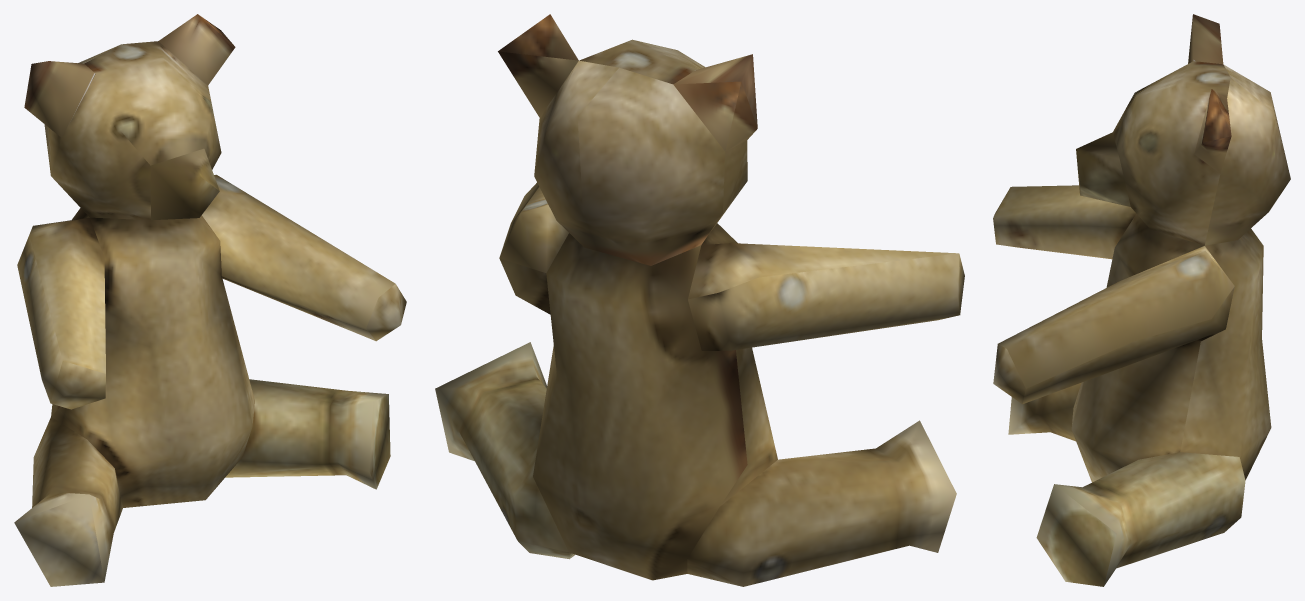
The model's file is Q_Bear.fbx.
3 views of the same model, side by side, from view 1: azimuth 30°, elevation 25°; view 2: azimuth 150°, elevation 25°; view 3: azimuth 270°, elevation 25° (orthographic). The views are drawn at different scales.
Parts seen in each view (by area): view 1: Aset_wood_other_S_ugkkdazhw_LOD5; view 2: Aset_wood_other_S_ugkkdazhw_LOD5; view 3: Aset_wood_other_S_ugkkdazhw_LOD5.
Part boxes in pixels (x1,y1,x2,y2): Aset_wood_other_S_ugkkdazhw_LOD5: (14, 14, 406, 586); Aset_wood_other_S_ugkkdazhw_LOD5: (435, 14, 964, 586); Aset_wood_other_S_ugkkdazhw_LOD5: (993, 14, 1290, 586).
Bounding box in the file's own units: 4.82 × 5.18 × 3.12.
